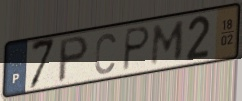2: (185, 13, 214, 63)
7: (28, 36, 57, 92)
C: (93, 31, 118, 77)
M: (149, 18, 187, 68)
P: (56, 34, 91, 85), (120, 25, 153, 74)
